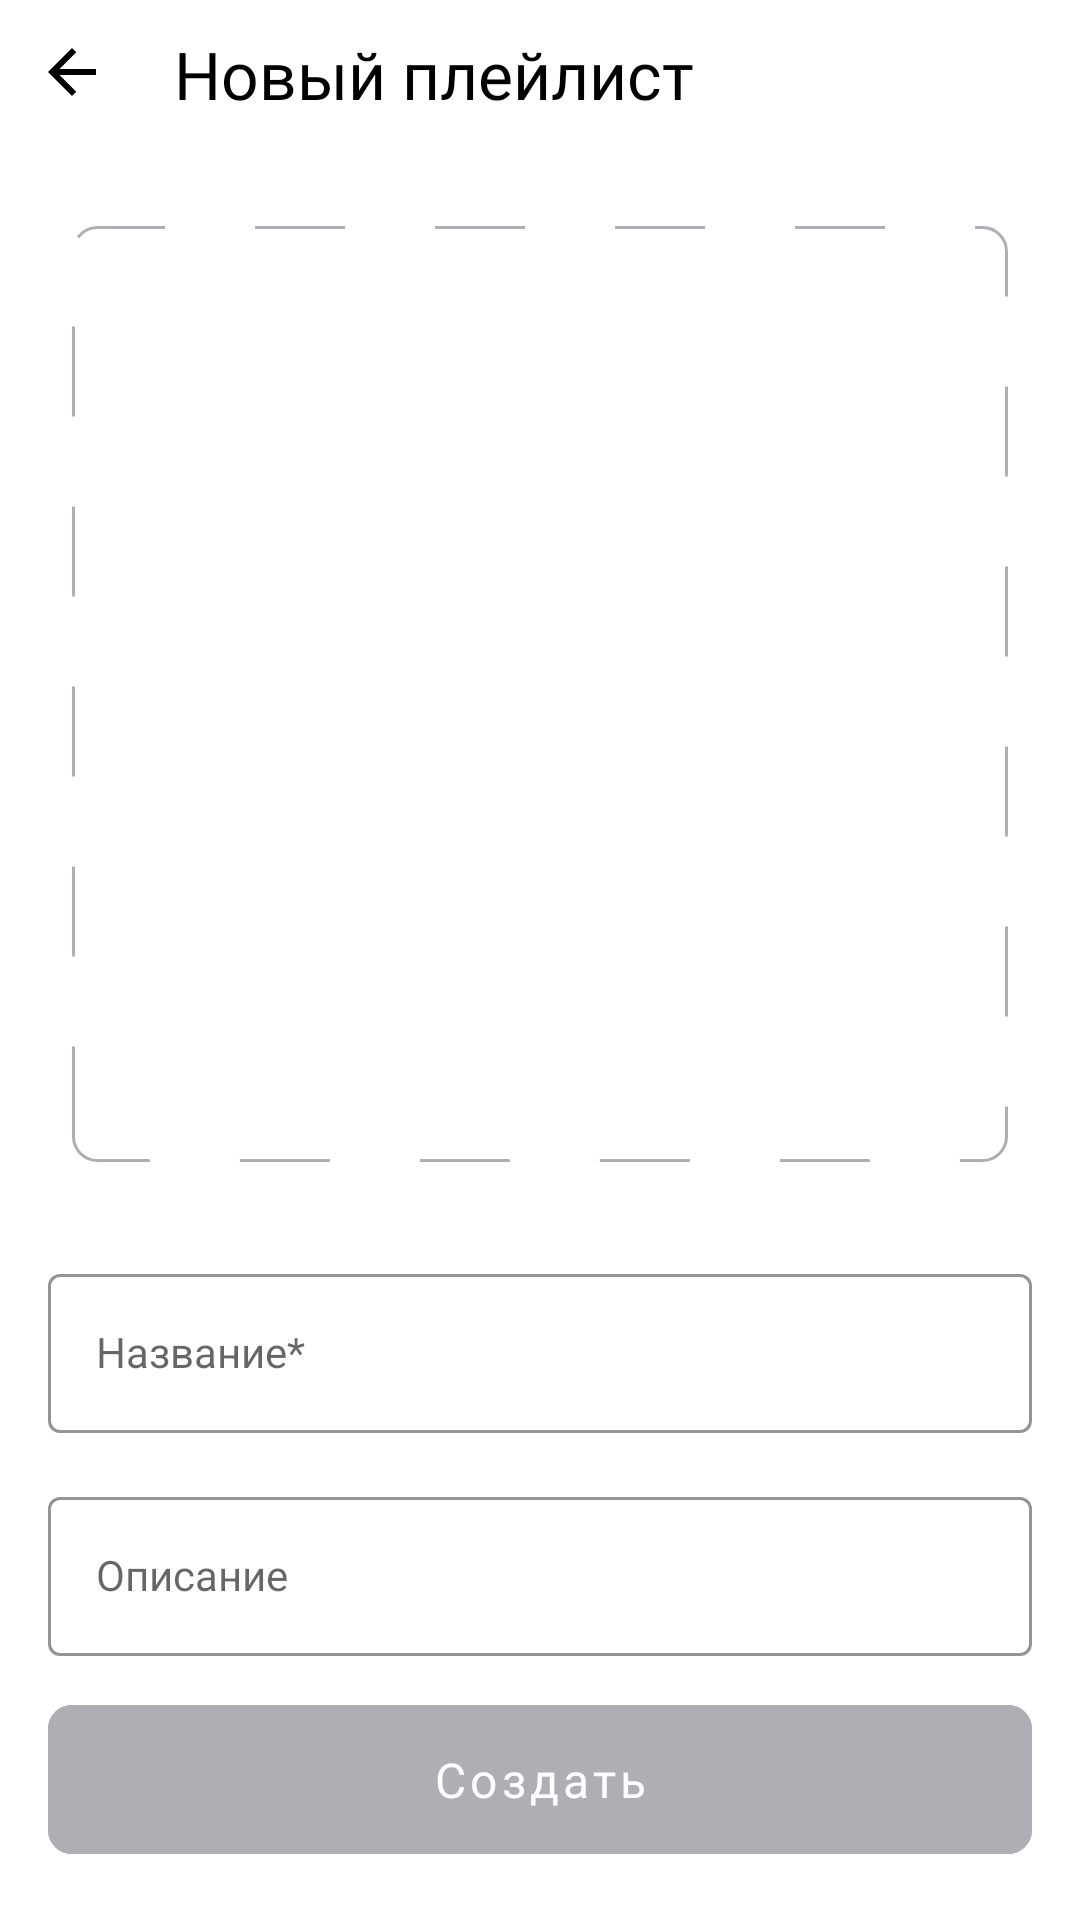

Screen size 1080 x 1920. Icon name, then its box in pixels as [x1,y1,x2,y2]:
arrow back: [48,48,96,96]
